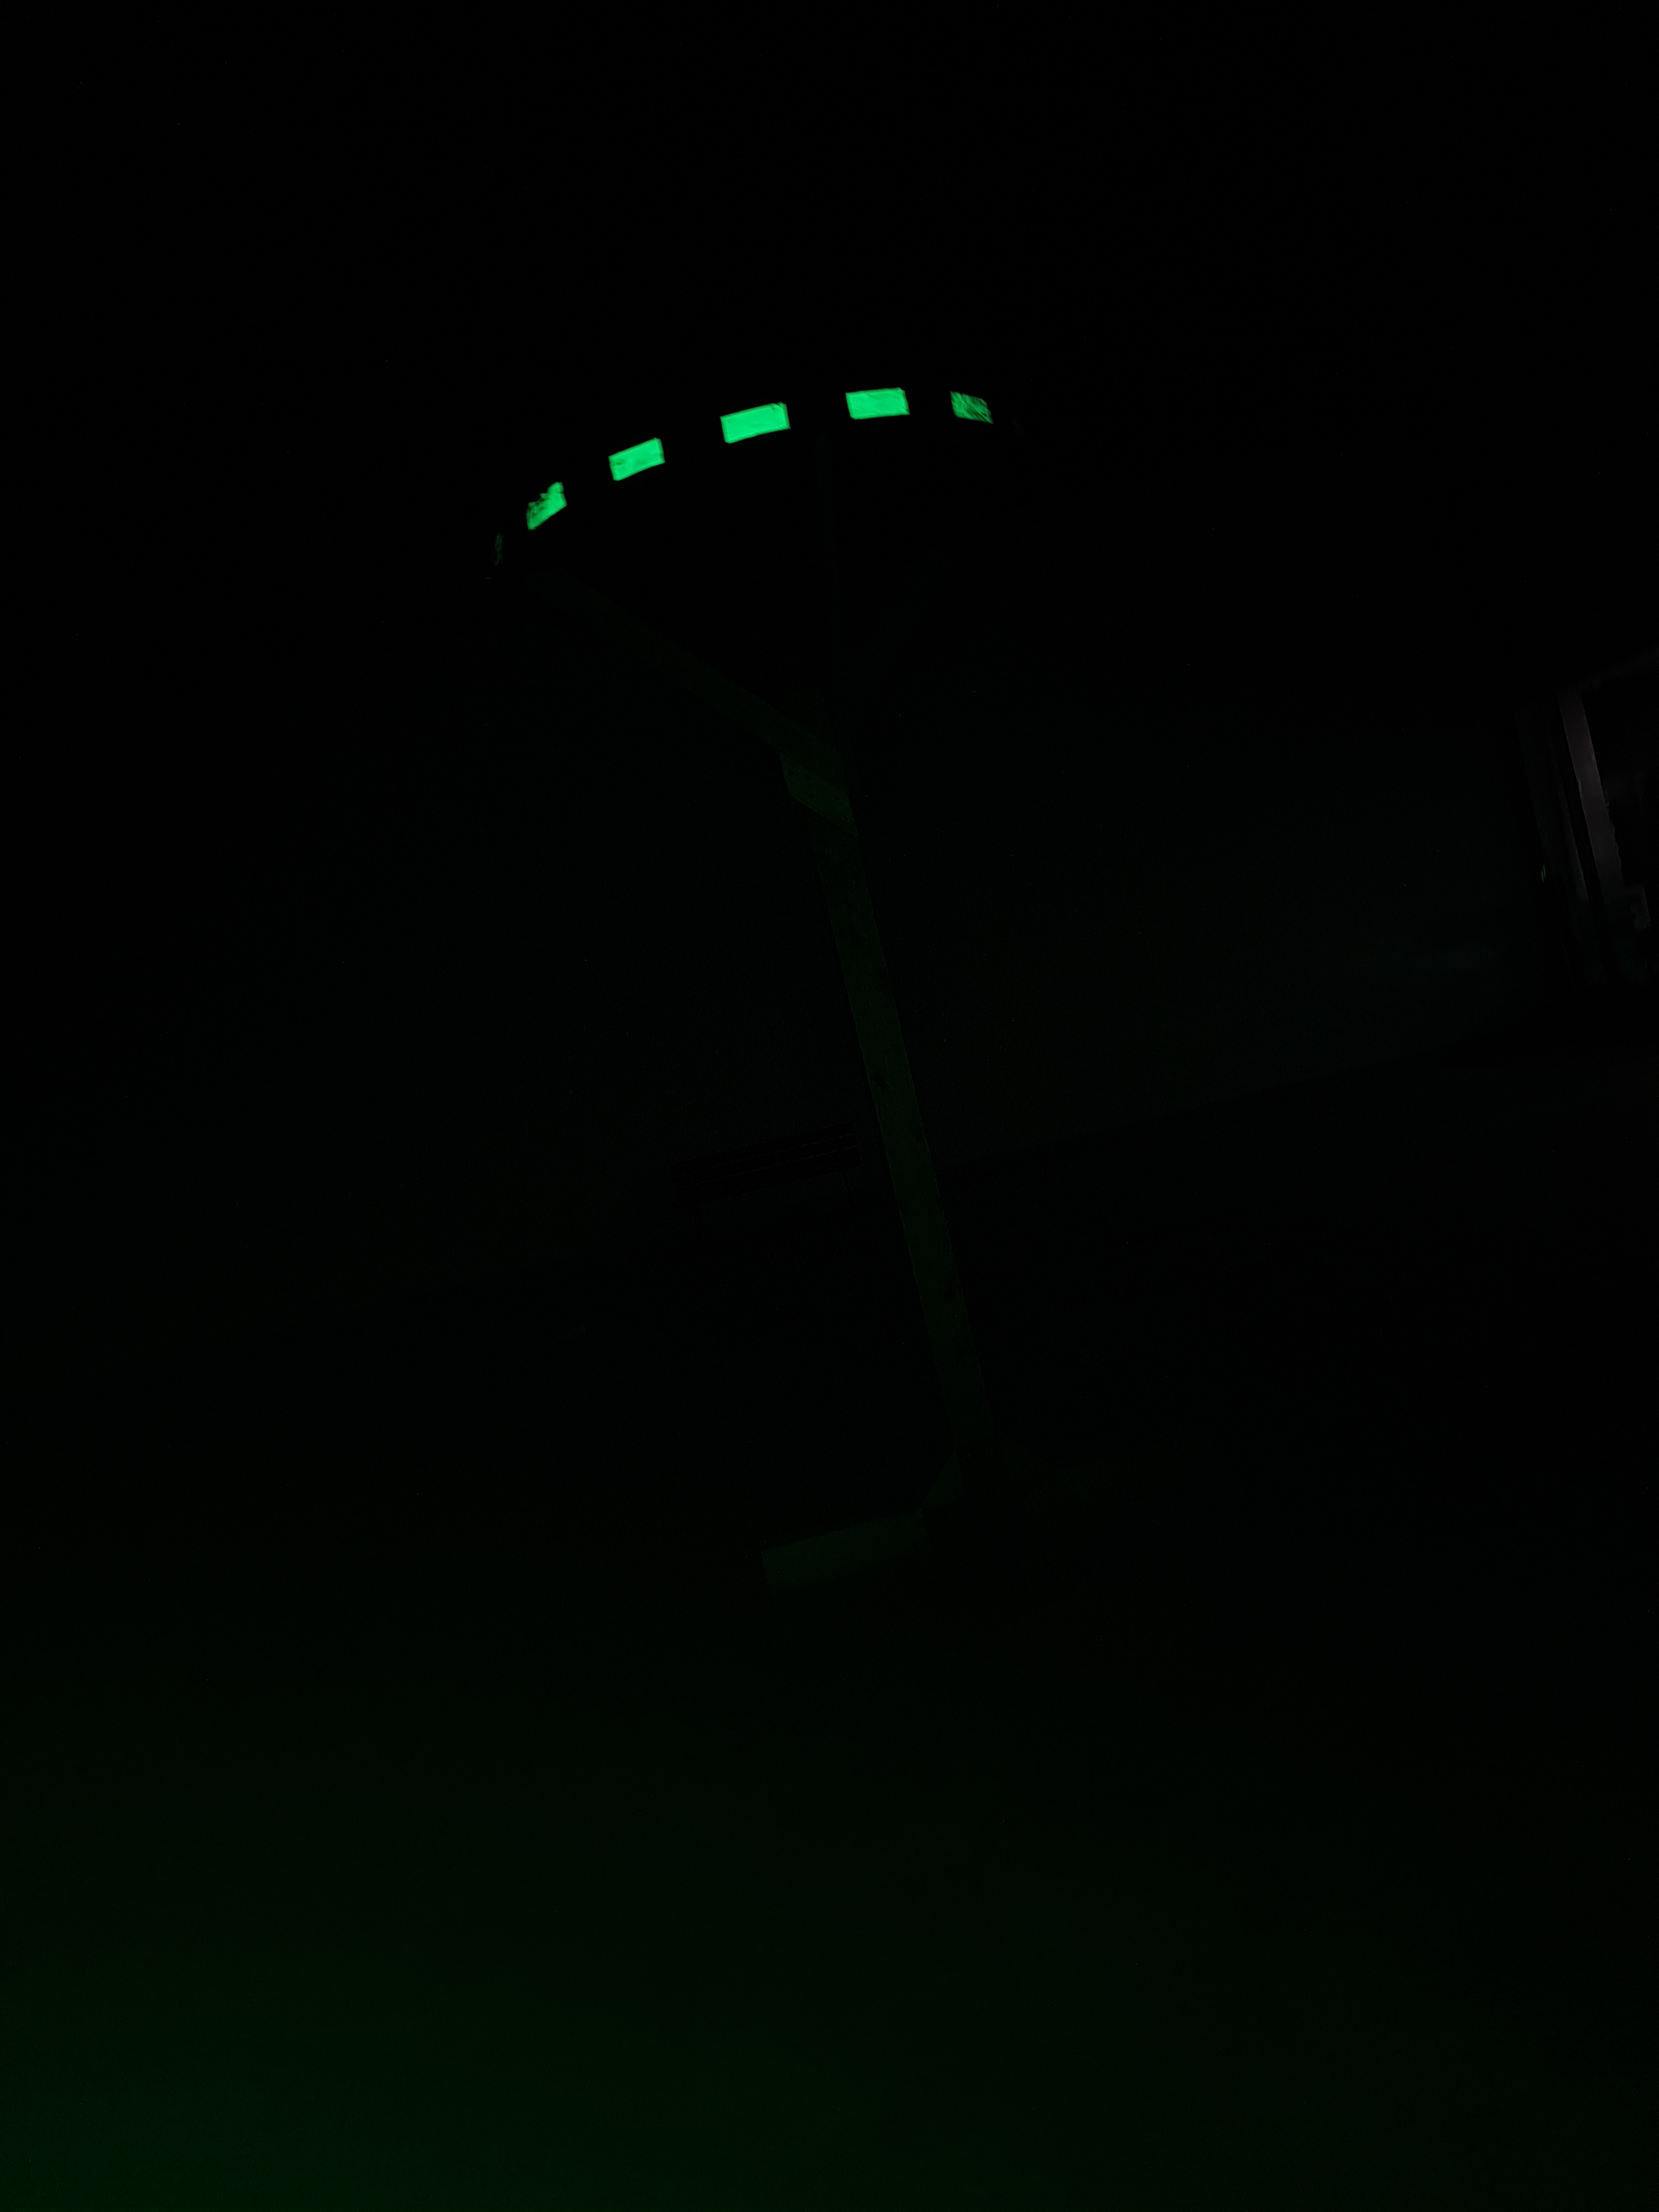hoop: (523, 380, 993, 529)
